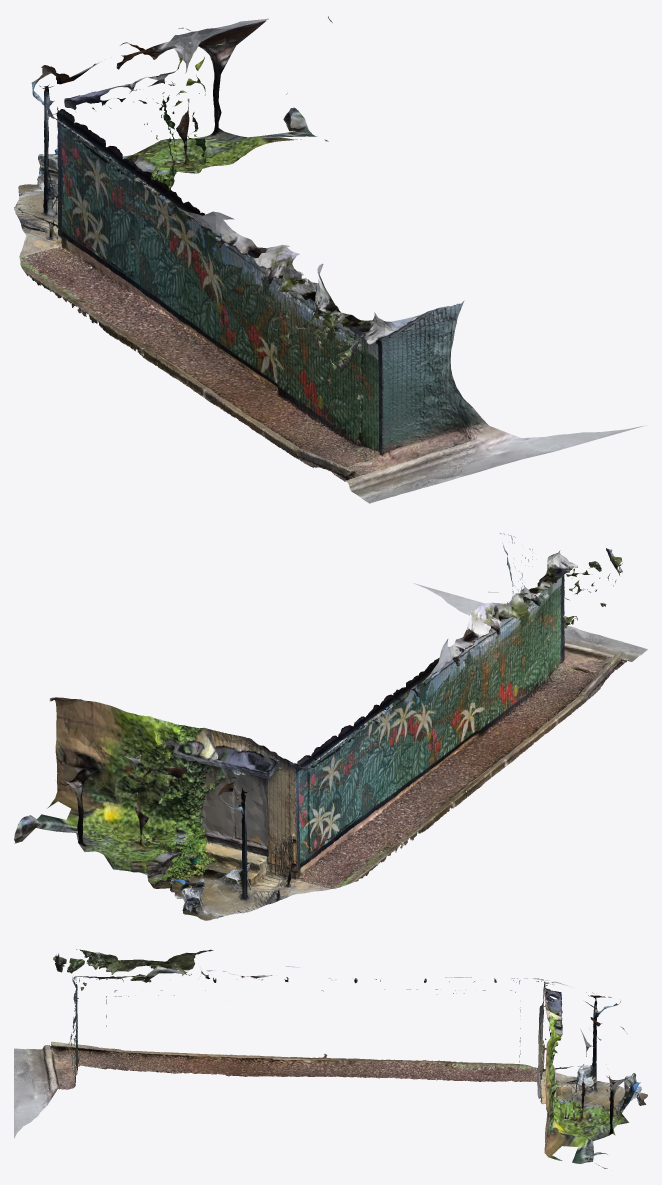
File: BCYCLCHN.glb
3 renders of one model, top to bottom at view 1: azimuth 30°, elevation 25°; view 2: azimuth 150°, elevation 25°; view 3: azimuth 270°, elevation 25°, orthographic. The views are drawn at different scales.
Bounding box in the file's own units: 4.8 × 2.22 × 10.92.
Materials: 1 (1 with a texture image).
